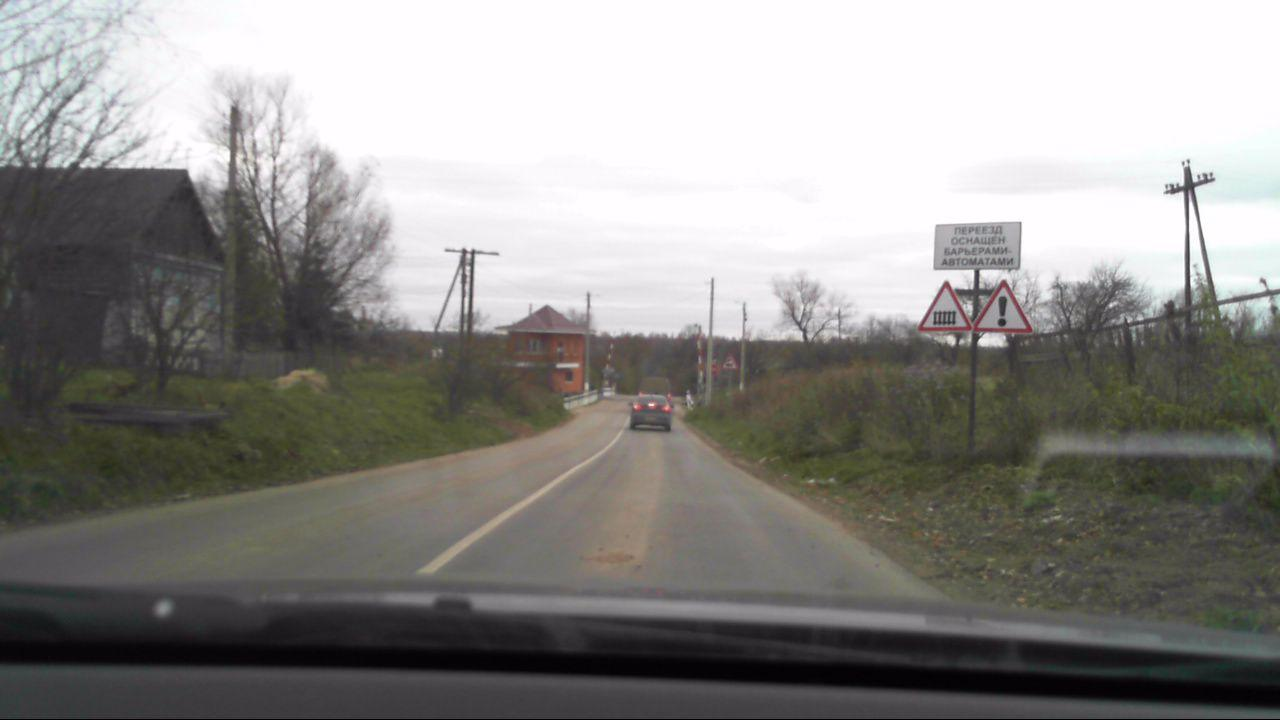1_1: (914, 281, 967, 331)
1_33: (977, 279, 1029, 331)
